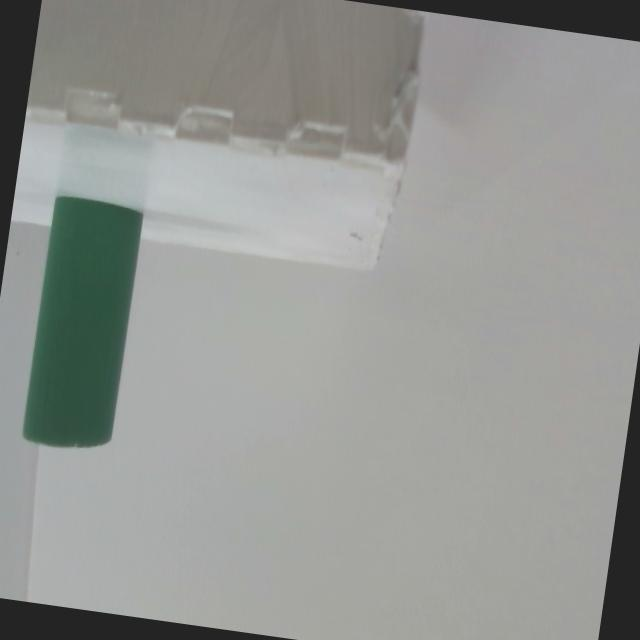green_cylinder: (20, 194, 144, 455)
